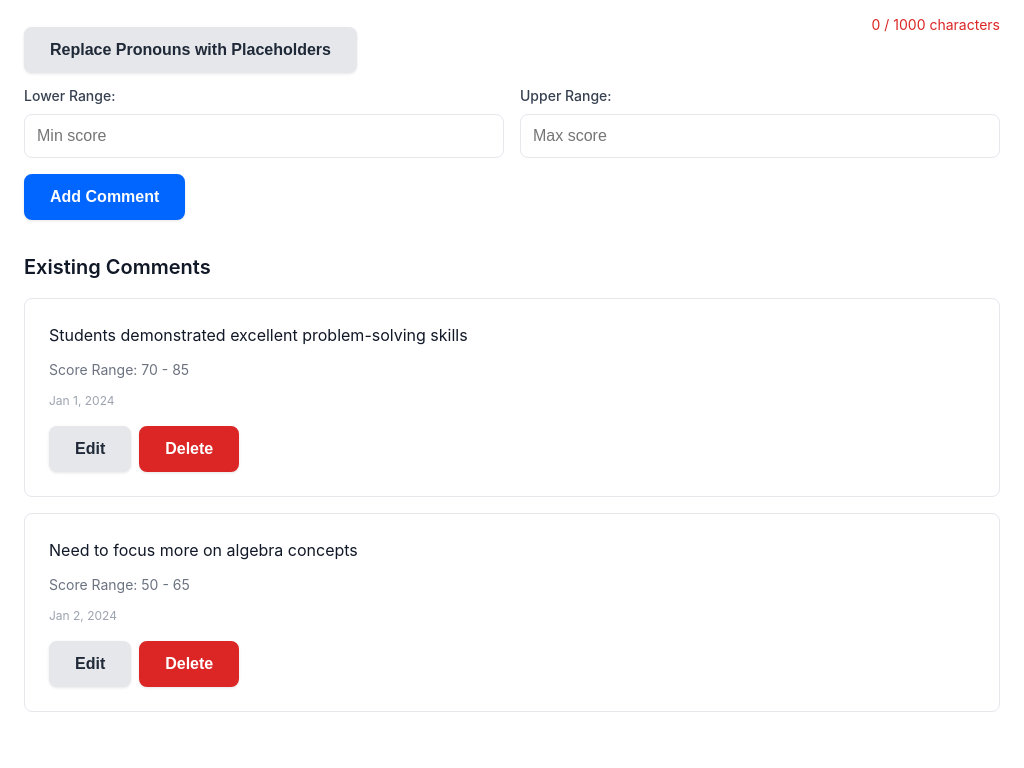
Scenario: OutcomeCommentsModal › User Story 3: Edit outcome comment › should switch to edit mode when edit button is clicked
(page scrolled)
Click the button "Edit" below "Jan 1, 2024".
click(90, 449)  # box [49,426,131,472]
(page scrolled)
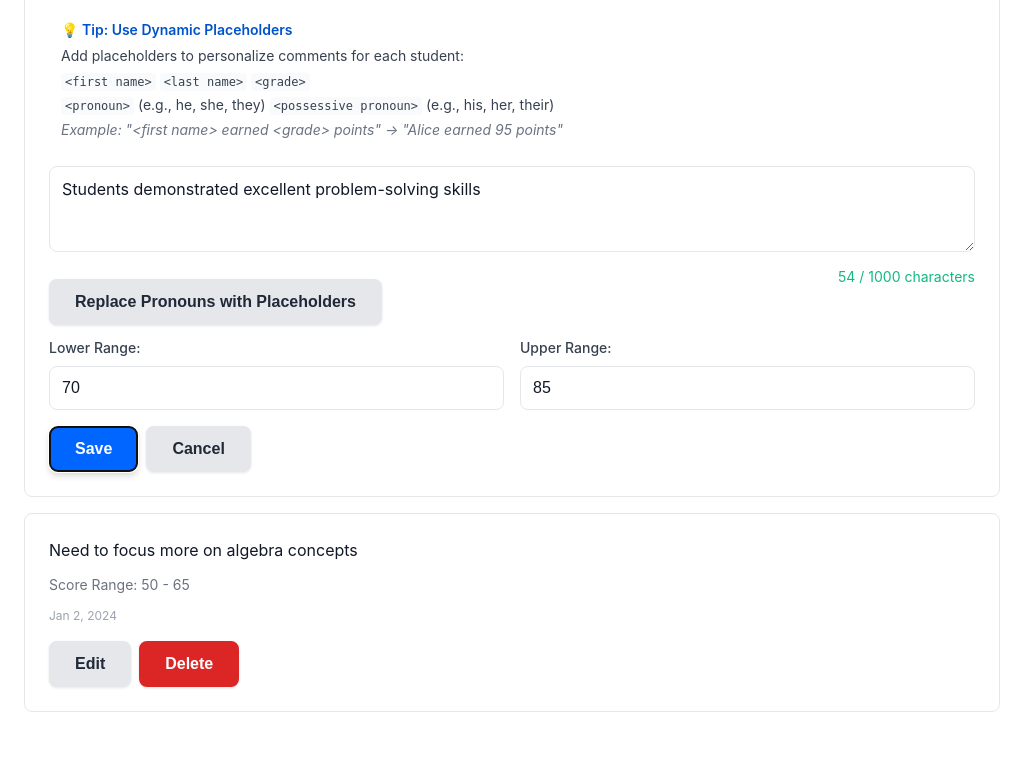
Check: the text box showing "Students demonstrated excellent problem-solving skills" is shown, box [49,166,975,252]
Check: the button "Save" is shown, box [49,426,138,472]
Check: the button "Cancel" is shown, box [146,426,251,472]
